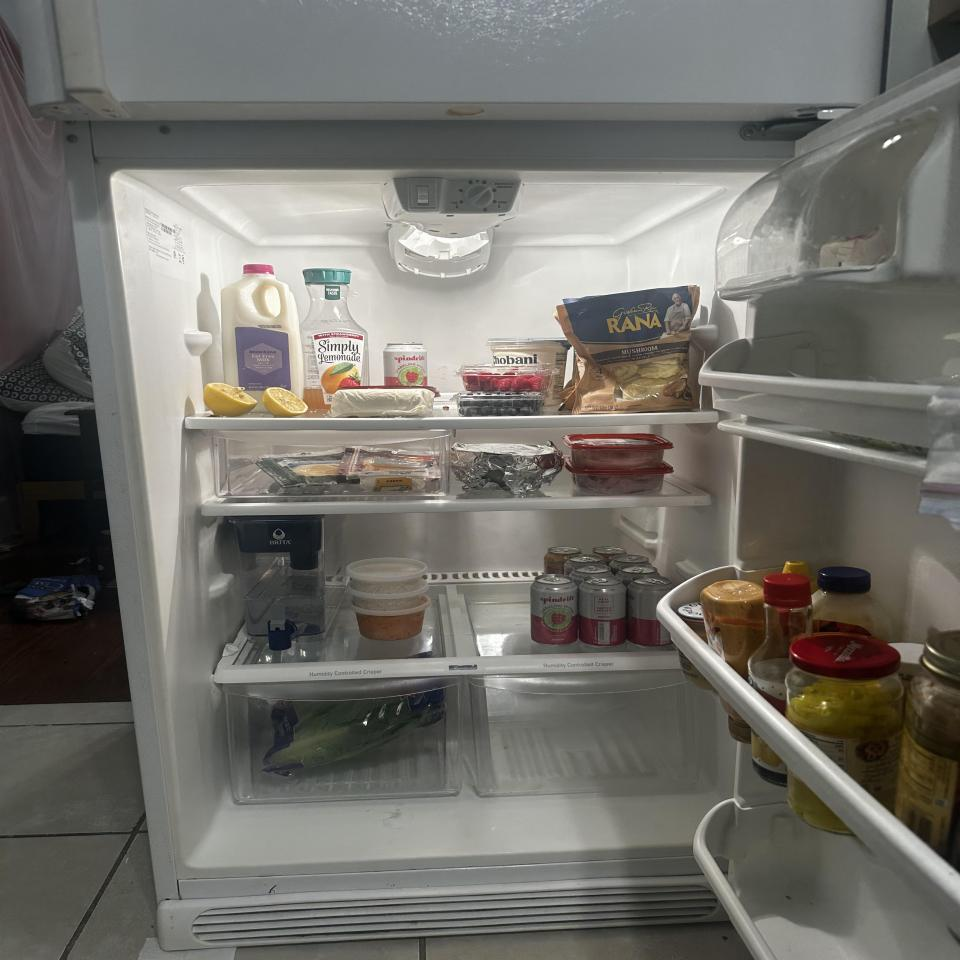Leche: (219, 263, 304, 404)
Limón: (204, 383, 256, 417), (265, 388, 307, 417)
Queso: (260, 448, 360, 486)
Yogur: (487, 336, 572, 406)
blueberries: (454, 390, 540, 415)
